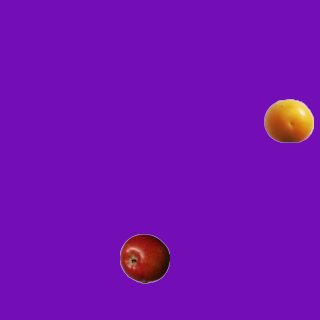Apple Braeburn: (119, 233, 169, 283)
Cherry Wax Yellow: (263, 95, 313, 145)
